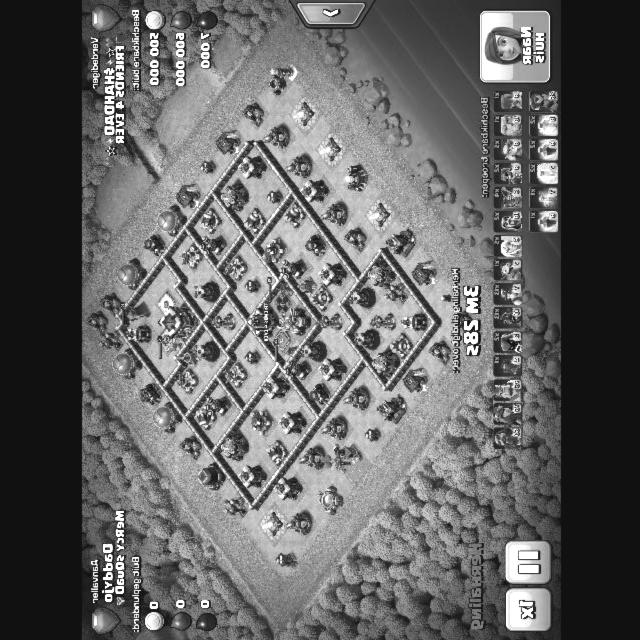AD: (200, 396, 230, 416), (197, 235, 226, 255), (277, 259, 306, 279), (281, 360, 310, 380)
AirSweeper: (174, 348, 200, 367), (295, 277, 316, 295)
BombTower: (399, 314, 426, 331), (123, 326, 150, 342)
Canon: (307, 285, 331, 311), (387, 333, 411, 359), (192, 404, 215, 430), (197, 208, 220, 234), (242, 208, 265, 234), (264, 440, 287, 466), (281, 202, 304, 228)
ClanCastle: (245, 308, 278, 337)
Eagle: (275, 307, 310, 335)
Inferno: (368, 313, 394, 330), (314, 313, 341, 329), (208, 313, 234, 329)
KingPad: (156, 329, 173, 352)
Mortar: (142, 234, 165, 256), (303, 234, 325, 256), (307, 383, 329, 405), (138, 383, 160, 405)
QueenPad: (271, 292, 289, 316)
RcPad: (273, 331, 288, 350)
Scattershot: (259, 238, 285, 263), (248, 409, 272, 435)
TH13: (155, 306, 196, 339)
WardenPad: (156, 294, 172, 315)
WizzTower: (347, 288, 373, 307), (352, 330, 378, 349), (191, 282, 217, 301), (191, 342, 217, 361), (298, 342, 324, 361)
Xbow: (172, 368, 197, 394), (177, 243, 202, 269), (221, 362, 246, 388), (221, 255, 246, 281)
